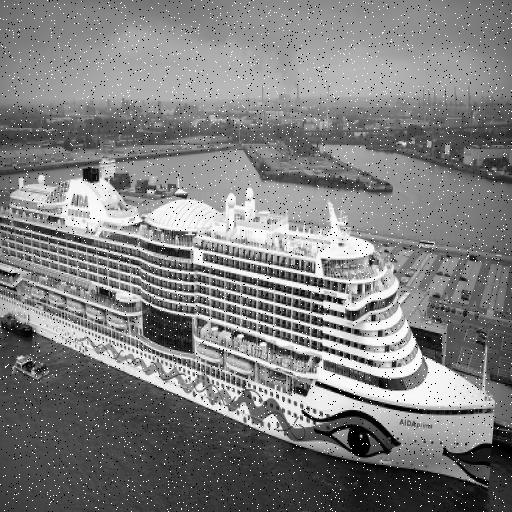cruises: (1, 159, 498, 503)
